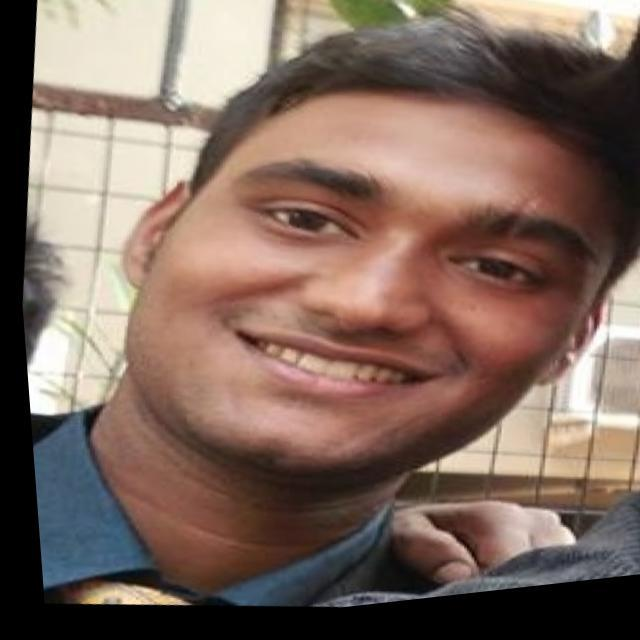Nonhelmet: (113, 21, 628, 488)
